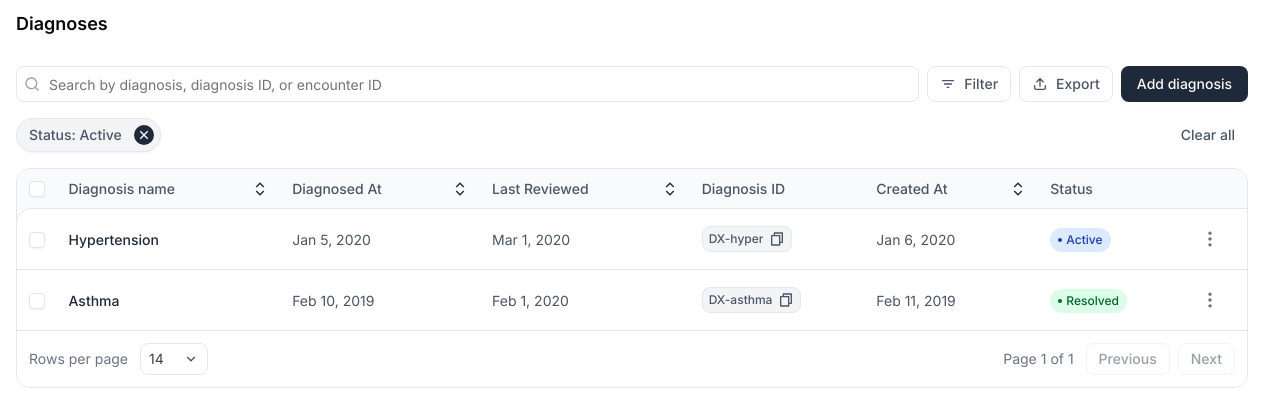
Test: Diagnoses table › adds and removes status filters from the filter menu
Click the button "Filter". click: (969,84)
box: [927,66,1011,102]
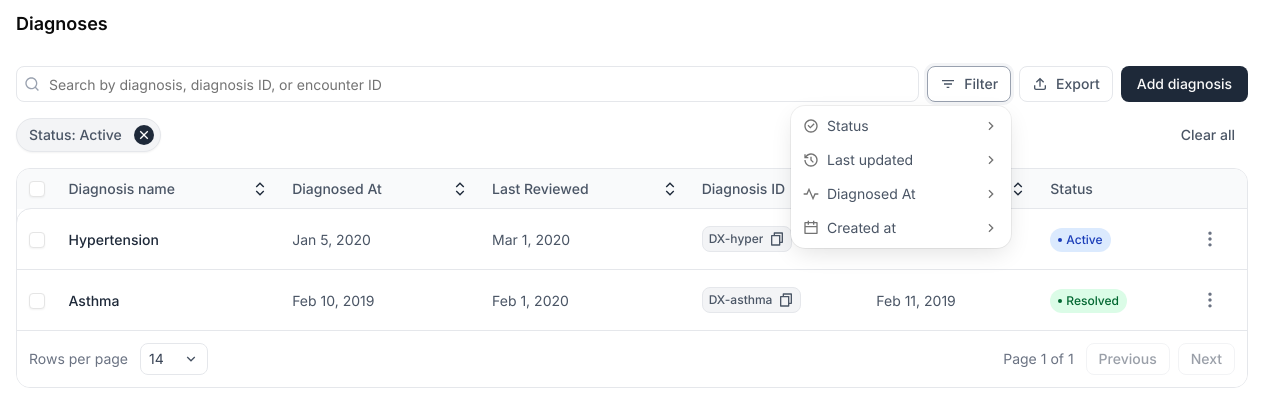
Click the menu item "Status". click: (848,126)
box: [803,117,999,134]
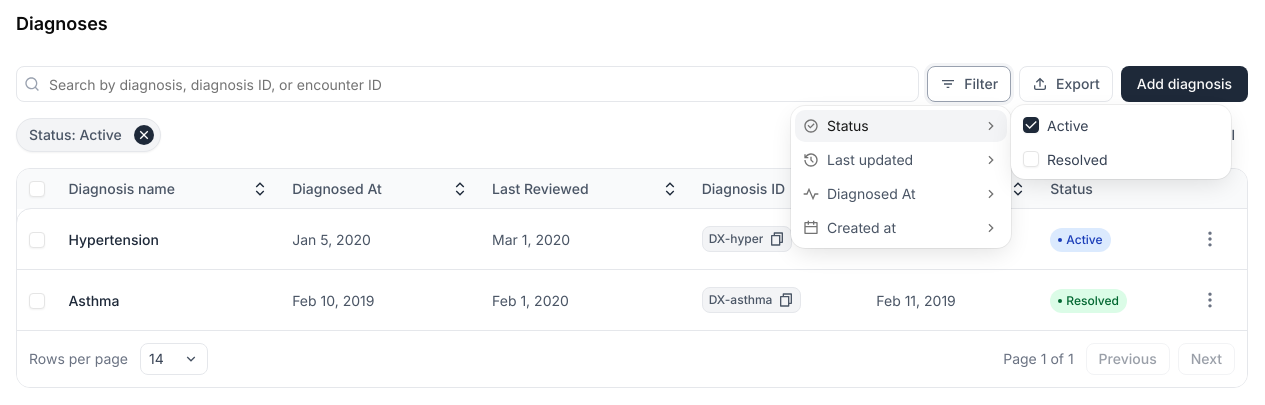
Now the 1st checkbox named "Active" is checked, box [1023,117,1039,133]
Now the 2nd checkbox named "Resolved" is not checked, box [1023,151,1039,167]
